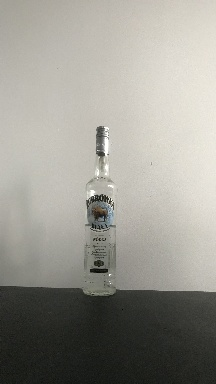butelka: (81, 123, 117, 298)
